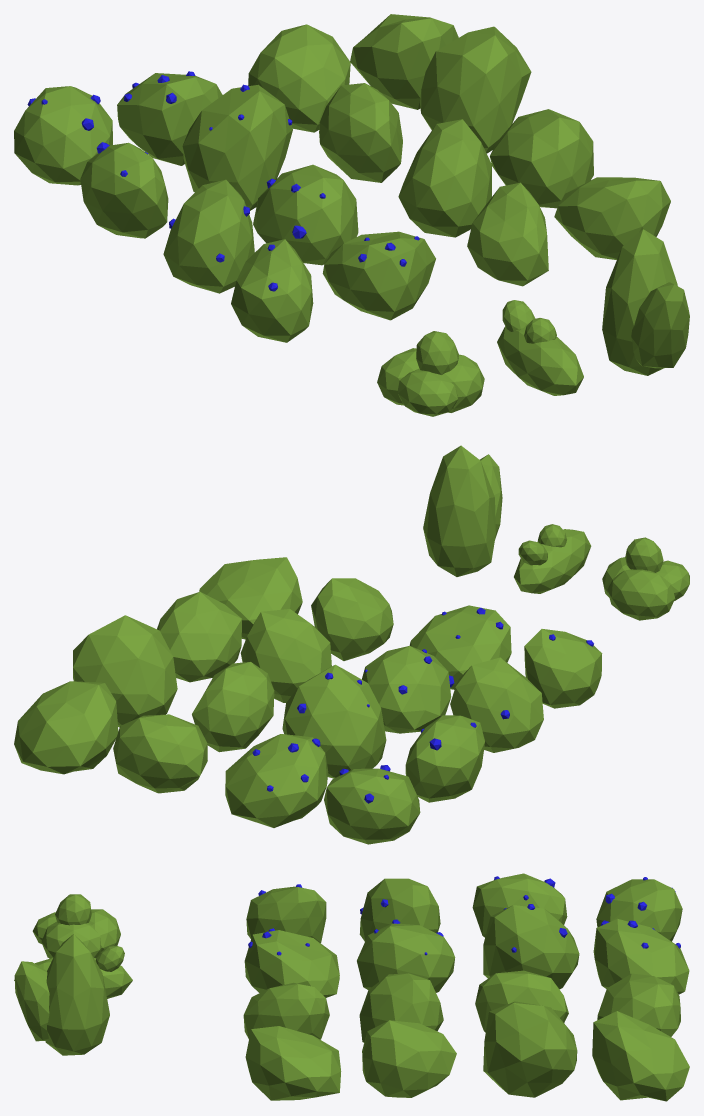
File: Bush.fbx
3 renders of one model, top to bottom at view 1: azimuth 30°, elevation 25°; view 2: azimuth 150°, elevation 25°; view 3: azimuth 270°, elevation 25°, orthographic. The views are drawn at different scales.
Parts seen in each view (by area): view 1: Icosphere.037, Icosphere.036, Icosphere.028, Icosphere, Icosphere.029, Icosphere.030, Icosphere.032, Icosphere.033, Icosphere.022, Icosphere.025, Icosphere.024, Icosphere.035 (+7 smaller); view 2: Icosphere.037, Icosphere.026, Icosphere.036, Icosphere.028, Icosphere.034, Icosphere.029, Icosphere.025, Icosphere.033, Icosphere.030, Icosphere.022, Icosphere.027, Icosphere.035 (+7 smaller); view 3: Icosphere.037, Icosphere.028, Icosphere.026, Icosphere.024, Icosphere.036, Icosphere.022, Icosphere.034, Icosphere.032, Icosphere.030, Icosphere, Icosphere.023, Icosphere.033 (+7 smaller).
Boxes of the visible parts, x1,y1,x2,y2 form: Icosphere.037: [602, 229, 689, 375]; Icosphere.036: [182, 84, 292, 210]; Icosphere.028: [420, 26, 531, 153]; Icosphere: [398, 119, 491, 237]; Icosphere.029: [163, 179, 254, 293]; Icosphere.030: [253, 164, 358, 265]; Icosphere.032: [322, 231, 435, 320]; Icosphere.033: [14, 86, 112, 185]; Icosphere.022: [490, 109, 593, 208]; Icosphere.025: [248, 24, 350, 132]; Icosphere.024: [554, 177, 670, 259]; Icosphere.035: [80, 142, 168, 238]; Icosphere.037: [423, 445, 502, 576]; Icosphere.026: [14, 681, 118, 774]; Icosphere.036: [282, 664, 386, 778]; Icosphere.028: [73, 615, 177, 727]; Icosphere.034: [225, 734, 328, 827]; Icosphere.029: [450, 657, 543, 752]; Icosphere.025: [113, 714, 207, 793]; Icosphere.033: [324, 765, 420, 844]; Icosphere.030: [362, 646, 454, 733]; Icosphere.022: [157, 592, 241, 682]; Icosphere.027: [192, 662, 274, 752]; Icosphere.035: [405, 715, 484, 802]; Icosphere.037: [14, 934, 109, 1055]; Icosphere.028: [483, 1001, 577, 1097]; Icosphere.026: [592, 1011, 689, 1101]; Icosphere.024: [245, 1026, 341, 1100]; Icosphere.036: [483, 904, 579, 989]; Icosphere.022: [362, 1020, 456, 1097]; Icosphere.034: [593, 919, 689, 994]; Icosphere.032: [244, 928, 339, 997]; Icosphere.030: [357, 919, 455, 992]; Icosphere: [359, 973, 443, 1042]; Icosphere.023: [243, 982, 329, 1039]; Icosphere.033: [596, 877, 682, 941].
Bounding box in the file's own units: 909 × 289 × 1439.
